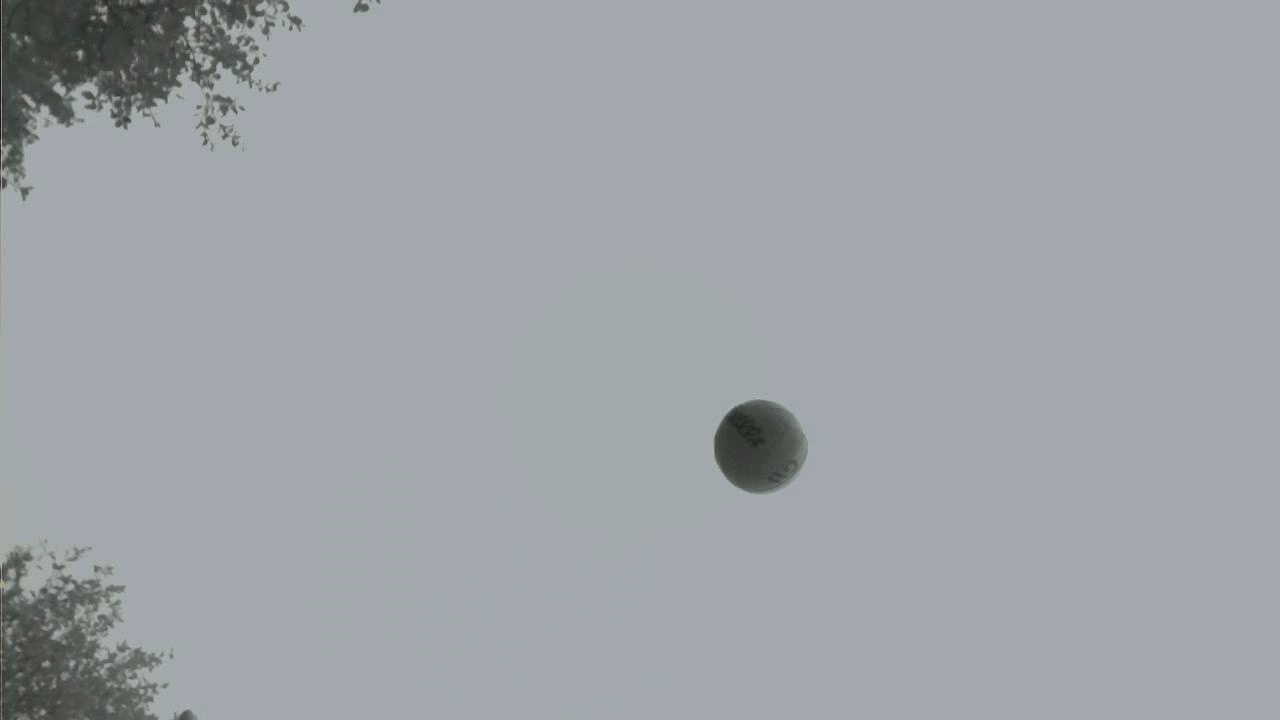Football-Spotter: (714, 400, 806, 492)
